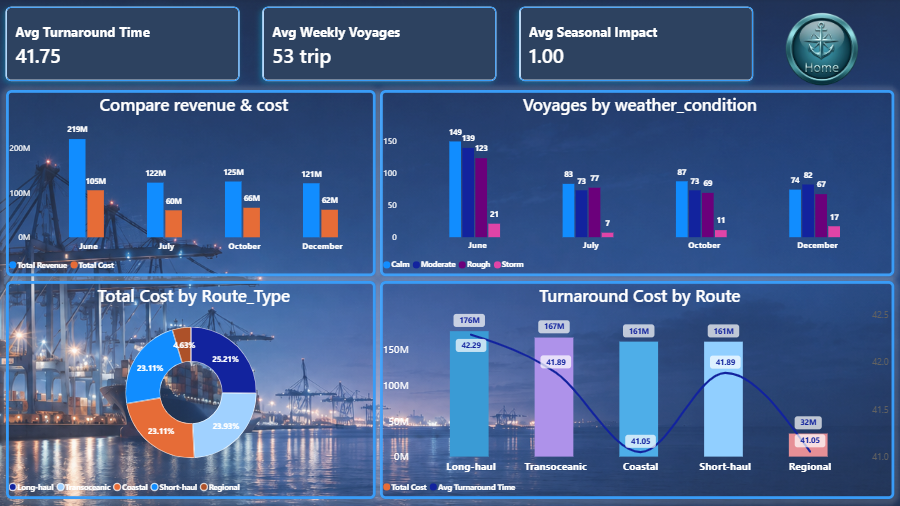

Layout of this report page (visuals, bound fields, positions):
{"tool":"powerbi","page":{"name":"Timing Analysis","canvas":[1280,720],"ordinal":3},"visuals":[{"type":"cardVisual","fields":{"Data":["Ship.Avg Turnaround Time","Ship.Avg Weekly Voyages","Ship.Avg Seasonal Impact"]},"box":[0,0,1085.7,130.4],"z":0},{"type":"clusteredColumnChart","title":"Voyages by  weather_condition","fields":{"Category":["Dim date.Month name"],"Series":["Ship.Weather_Condition"],"Y":["CountNonNull(Ship.Index)"]},"box":[542.9,130,728.6,264.3],"z":1000},{"type":"image","box":[1063,14.2,208.3,141.7],"z":2000},{"type":"clusteredColumnChart","title":"Compare revenue & cost ","fields":{"Category":["Dim date.Month name"],"Y":["Ship.Total Revenue","Ship.Total Cost"]},"box":[13.3,130,524.4,264.4],"z":3000},{"type":"lineStackedColumnComboChart","title":"Turnaround Cost by Route","fields":{"Category":["Ship.Route_Type"],"Y":["Ship.Total Cost"],"Y2":["Ship.Avg Turnaround Time"]},"box":[542.9,401.4,728.6,308.6],"z":4000},{"type":"donutChart","fields":{"Category":["Ship.Route_Type"],"Y":["Ship.Total Cost"]},"box":[12.9,401.4,524.3,308.6],"z":5000}]}

Visuals, with their boxes in screenshot pixels (x1, y1, x2, y2), scaled from the page's 1280x720 canvas onto the 900x506 screenshot:
cardVisual - Ship.Avg Turnaround Time x Ship.Avg Weekly Voyages: <bbox>0, 0, 763, 92</bbox>
"Voyages by  weather_condition" clusteredColumnChart: <bbox>382, 91, 894, 277</bbox>
image: <bbox>747, 10, 894, 110</bbox>
"Compare revenue & cost " clusteredColumnChart: <bbox>9, 91, 378, 277</bbox>
"Turnaround Cost by Route" lineStackedColumnComboChart: <bbox>382, 282, 894, 499</bbox>
donutChart - Ship.Route_Type x Ship.Total Cost: <bbox>9, 282, 378, 499</bbox>
